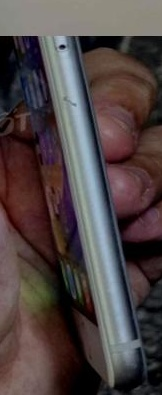scratch: (36, 82, 92, 124), (97, 351, 148, 395)
